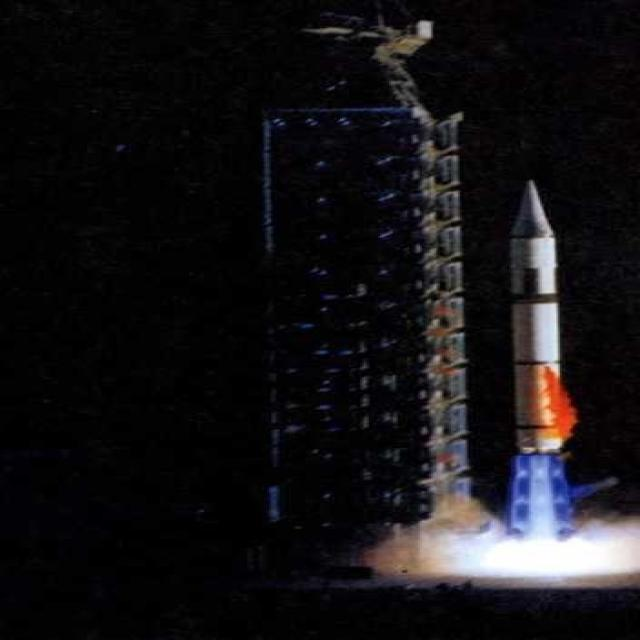missile: (497, 176, 581, 463)
